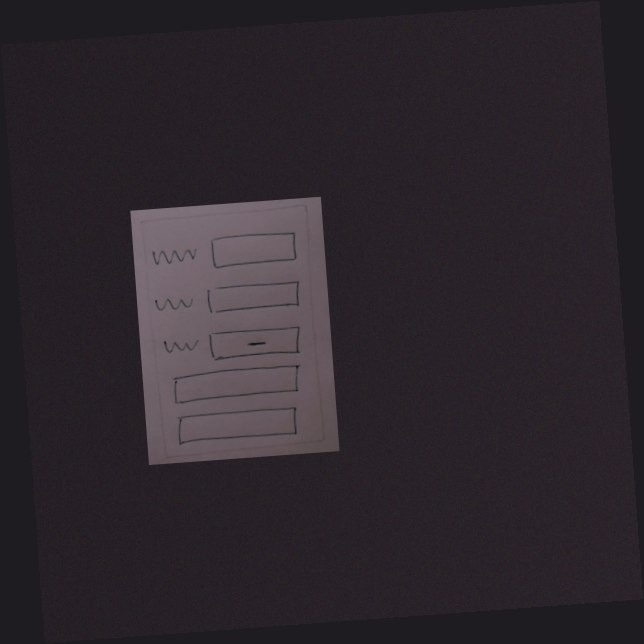button: (206, 322, 306, 364)
text: (149, 244, 201, 271), (152, 293, 196, 316), (160, 333, 202, 357)
text_input: (170, 363, 304, 406), (172, 405, 306, 447), (207, 229, 301, 273), (205, 278, 303, 318)
